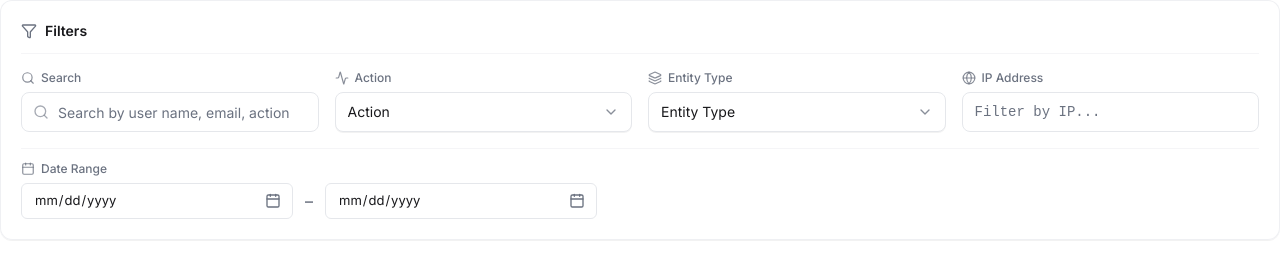
AuditLogFilters with the real query state › keeps the pickers usable even though only complete ranges reach the URL
The image size is (1280, 266).
Type "2026-01-05" into the date field named "From" at (157, 201), box [21,183,293,219]
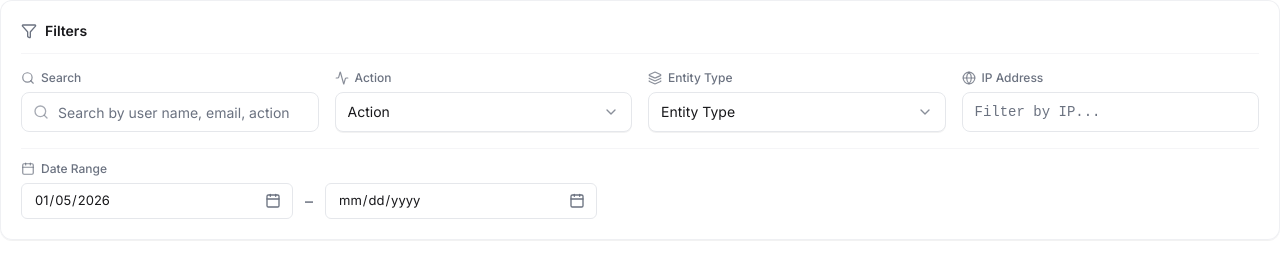
Type "2026-01-31" into the date field named "To" at (461, 201), box [325,183,597,219]
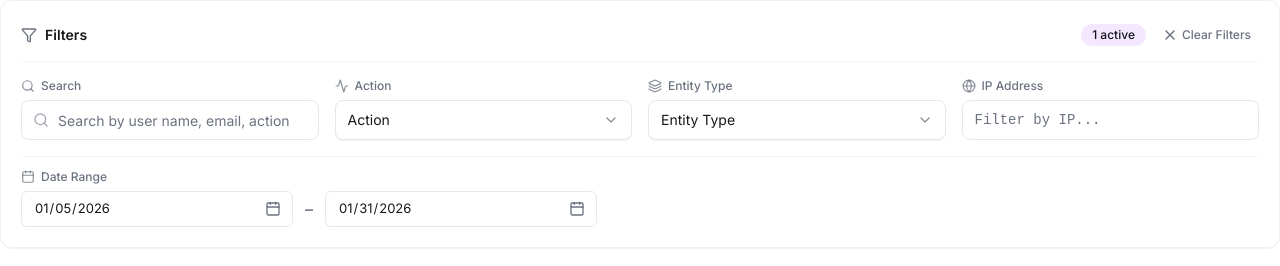
Now the element with test id "active-filters-count" shows "1", box [1092,27,1135,42]
Click the button with test id "btn-clear-filters" at (1206, 35), box [1154,21,1259,49]
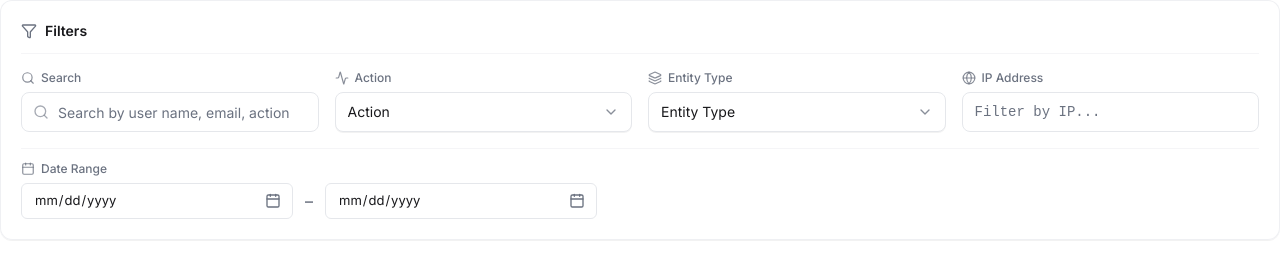
Now the date field named "From" is empty, box [21,183,293,219]
Now the date field named "To" is empty, box [325,183,597,219]
Now the element with test id "active-filters-count" is gone
